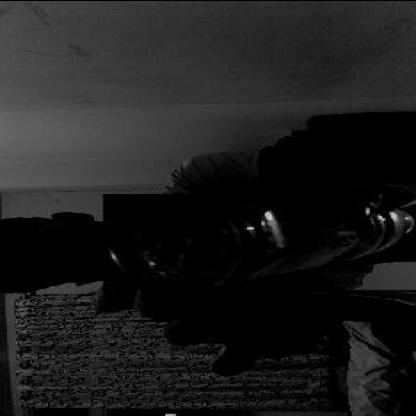plastic_bottles: (102, 194, 416, 290)
